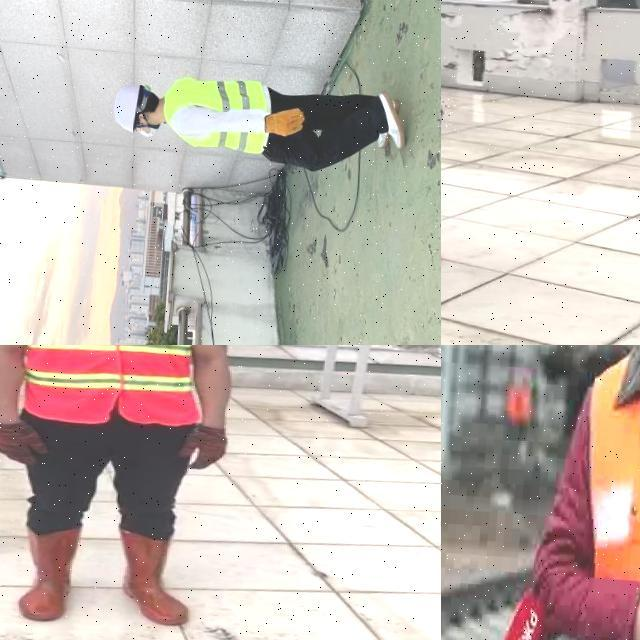boots: (110, 526, 194, 626), (12, 524, 78, 622), (369, 86, 414, 156)
helmet: (111, 78, 144, 138)
vest: (567, 345, 640, 640), (3, 345, 206, 429), (156, 72, 275, 158)
